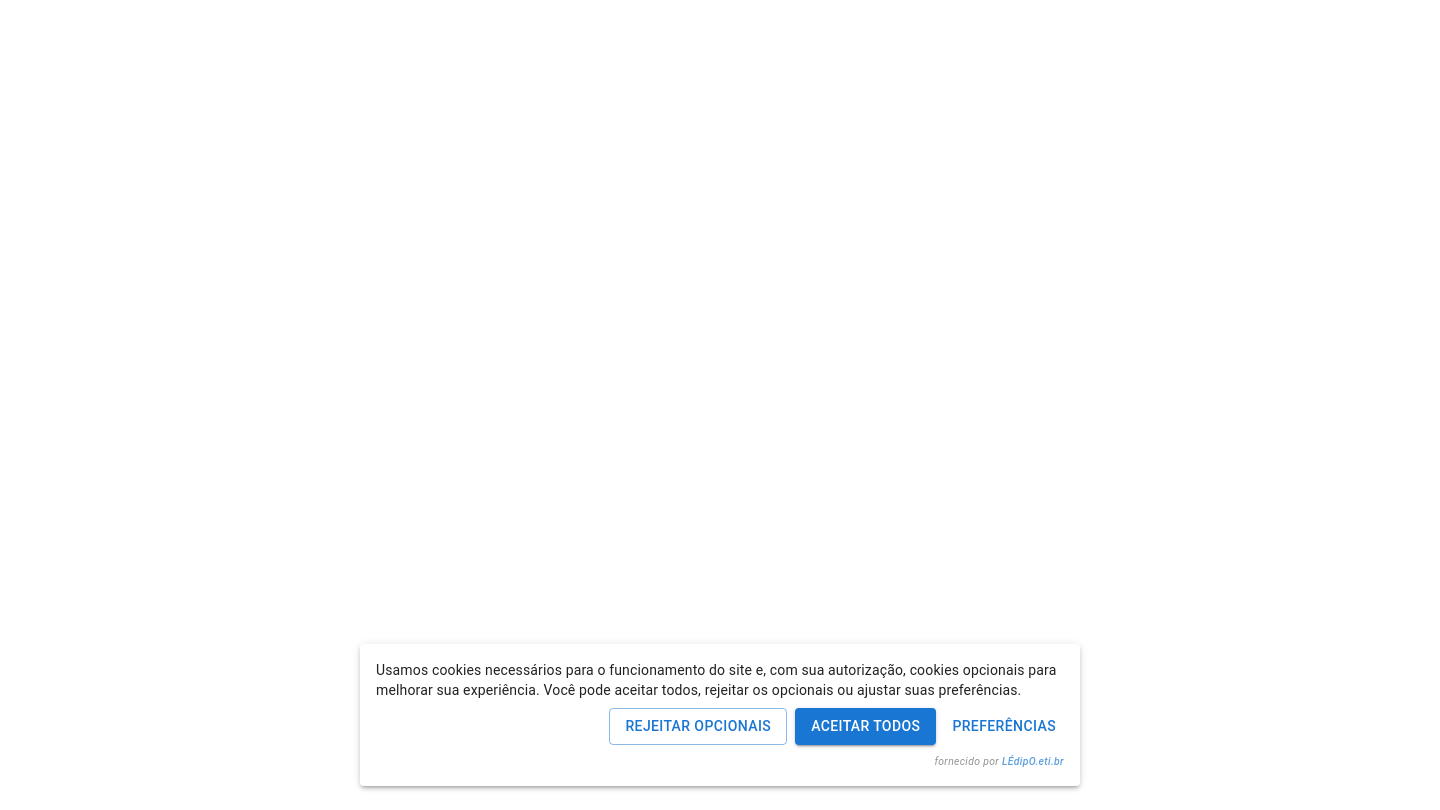
Test: CookieBanner blocking/non-blocking rendering › clicking Preferências opens the modal dialog
Click the button "Preferências": (1004, 726) [944, 708, 1064, 745]
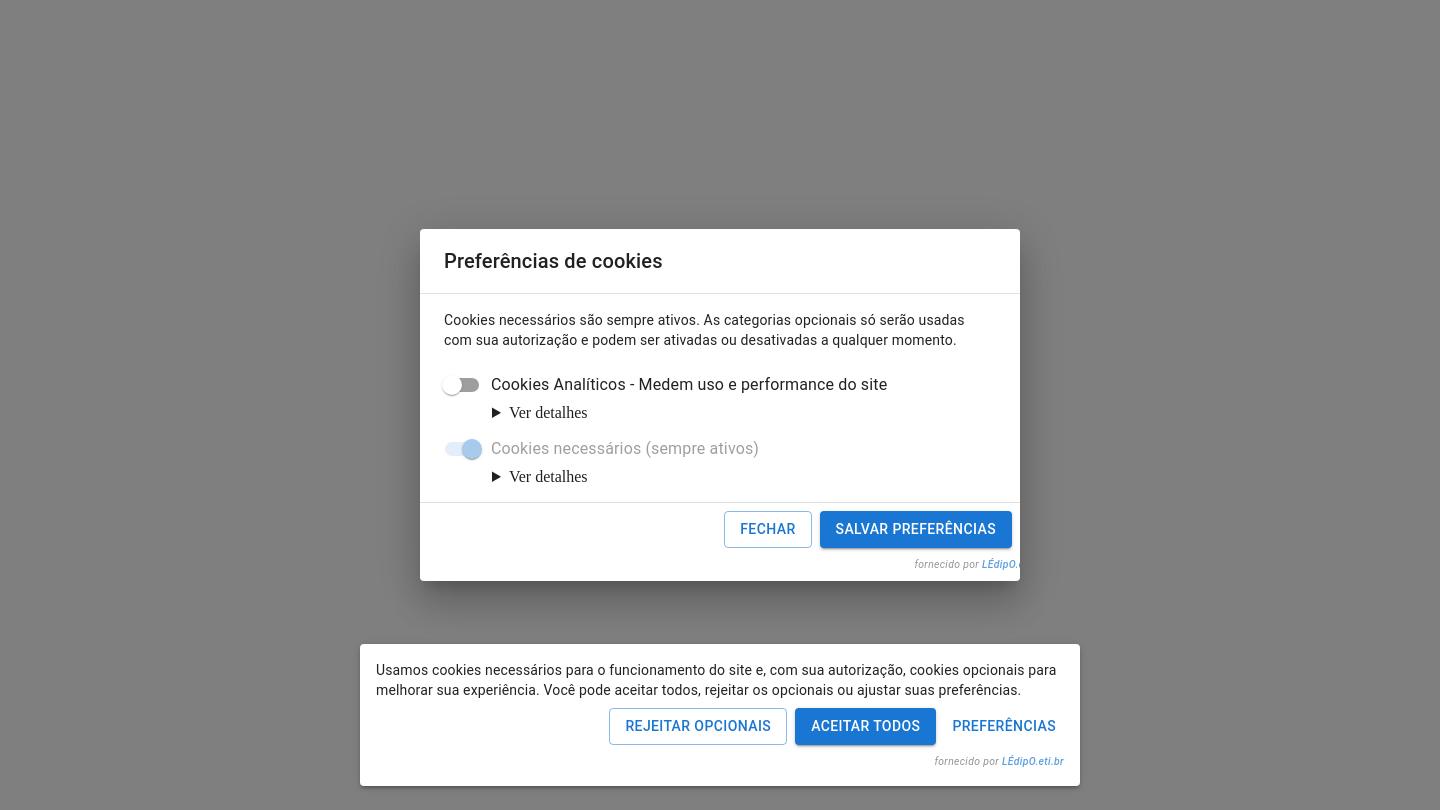
Now the dialog is shown, box [420, 229, 1020, 581]
